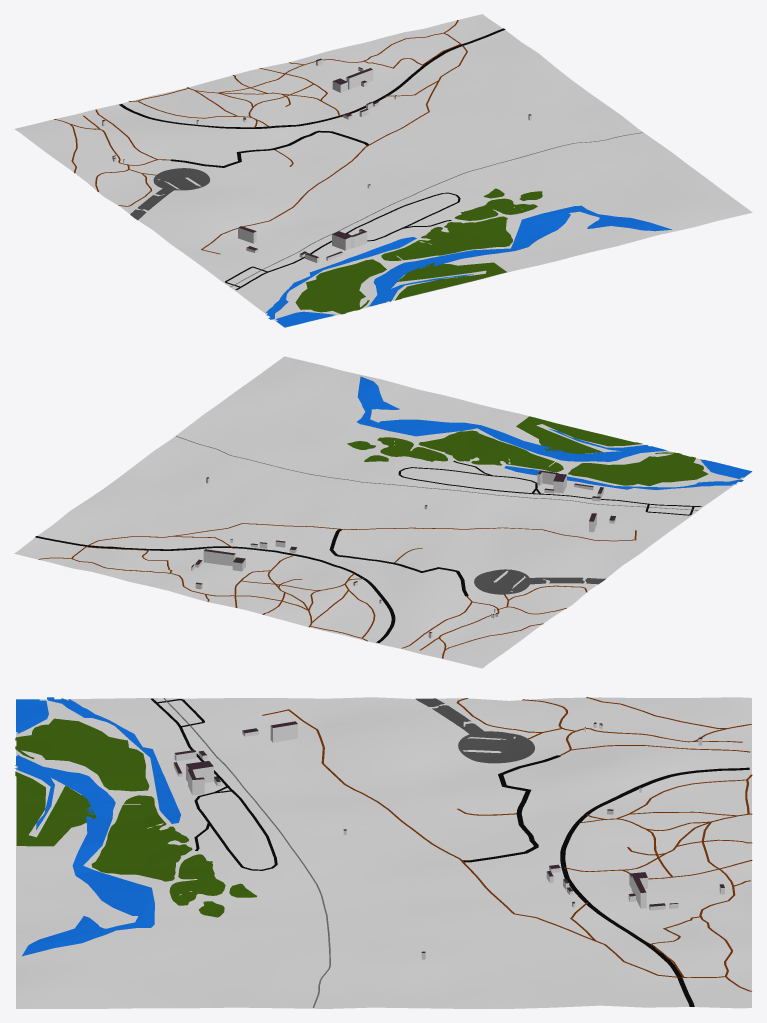
The model's file is tile_8_1.glb.
3 renders of one model, top to bottom at view 1: azimuth 30°, elevation 25°; view 2: azimuth 150°, elevation 25°; view 3: azimuth 270°, elevation 25°, orthographic. The views are drawn at different scales.
Parts seen in each view (by area): view 1: terrain_8_1, ulaanbaatar.osm_forest_mesh_8_1, ulaanbaatar.osm_water_mesh_8_1, ulaanbaatar.osm_roads_track_mesh_8_1, ulaanbaatar.osm_buildings_8_1, ulaanbaatar.osm_roads_unclassified_mesh_8_1, ulaanbaatar.osm_areas_pedestrian_mesh_8_1, ulaanbaatar.osm_roads_service_mesh_8_1, ulaanbaatar.osm_paths_cycleway_mesh_8_1; view 2: terrain_8_1, ulaanbaatar.osm_forest_mesh_8_1, ulaanbaatar.osm_water_mesh_8_1, ulaanbaatar.osm_roads_track_mesh_8_1, ulaanbaatar.osm_buildings_8_1, ulaanbaatar.osm_roads_unclassified_mesh_8_1, ulaanbaatar.osm_areas_pedestrian_mesh_8_1, ulaanbaatar.osm_roads_service_mesh_8_1, ulaanbaatar.osm_paths_cycleway_mesh_8_1; view 3: terrain_8_1, ulaanbaatar.osm_forest_mesh_8_1, ulaanbaatar.osm_water_mesh_8_1, ulaanbaatar.osm_roads_track_mesh_8_1, ulaanbaatar.osm_buildings_8_1, ulaanbaatar.osm_areas_pedestrian_mesh_8_1, ulaanbaatar.osm_roads_unclassified_mesh_8_1, ulaanbaatar.osm_roads_service_mesh_8_1, ulaanbaatar.osm_paths_cycleway_mesh_8_1.
Part boxes in pixels (x1,y1,x2,y2): terrain_8_1: [14, 14, 752, 327]; ulaanbaatar.osm_forest_mesh_8_1: [295, 188, 542, 314]; ulaanbaatar.osm_water_mesh_8_1: [265, 205, 671, 327]; ulaanbaatar.osm_roads_track_mesh_8_1: [54, 20, 467, 254]; ulaanbaatar.osm_buildings_8_1: [102, 58, 531, 262]; ulaanbaatar.osm_roads_unclassified_mesh_8_1: [119, 28, 505, 167]; ulaanbaatar.osm_areas_pedestrian_mesh_8_1: [130, 168, 209, 220]; ulaanbaatar.osm_roads_service_mesh_8_1: [225, 192, 460, 289]; ulaanbaatar.osm_paths_cycleway_mesh_8_1: [230, 132, 642, 286]; terrain_8_1: [14, 356, 752, 668]; ulaanbaatar.osm_forest_mesh_8_1: [347, 416, 708, 486]; ulaanbaatar.osm_water_mesh_8_1: [357, 376, 751, 490]; ulaanbaatar.osm_roads_track_mesh_8_1: [38, 523, 636, 658]; ulaanbaatar.osm_buildings_8_1: [191, 470, 615, 638]; ulaanbaatar.osm_roads_unclassified_mesh_8_1: [35, 529, 468, 642]; ulaanbaatar.osm_areas_pedestrian_mesh_8_1: [474, 569, 605, 594]; ulaanbaatar.osm_roads_service_mesh_8_1: [398, 460, 701, 515]; ulaanbaatar.osm_paths_cycleway_mesh_8_1: [176, 436, 698, 510]; terrain_8_1: [16, 697, 751, 1008]; ulaanbaatar.osm_forest_mesh_8_1: [15, 718, 256, 917]; ulaanbaatar.osm_water_mesh_8_1: [14, 697, 180, 956]; ulaanbaatar.osm_roads_track_mesh_8_1: [262, 697, 752, 991]; ulaanbaatar.osm_buildings_8_1: [173, 721, 724, 959]; ulaanbaatar.osm_areas_pedestrian_mesh_8_1: [415, 698, 534, 763]; ulaanbaatar.osm_roads_unclassified_mesh_8_1: [462, 755, 749, 1006]; ulaanbaatar.osm_roads_service_mesh_8_1: [151, 698, 277, 870]; ulaanbaatar.osm_paths_cycleway_mesh_8_1: [163, 698, 330, 1007].
Bounding box in the file's own units: 1006 × 28.55 × 1004.
